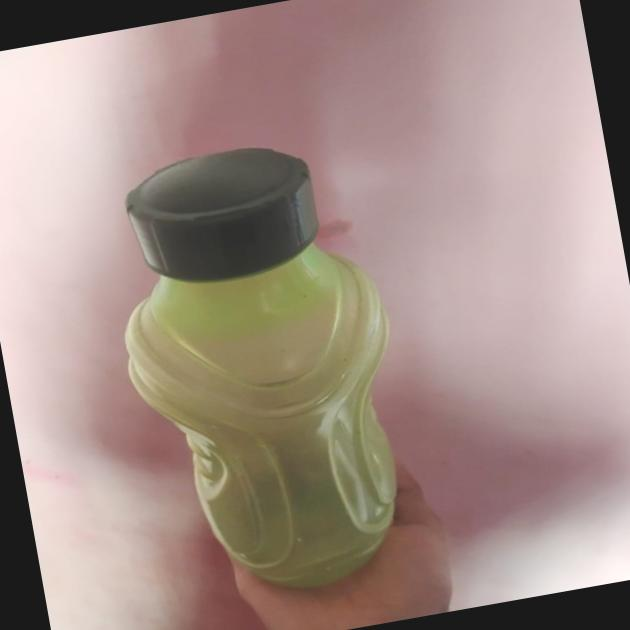waterbottle: (91, 131, 404, 619)
